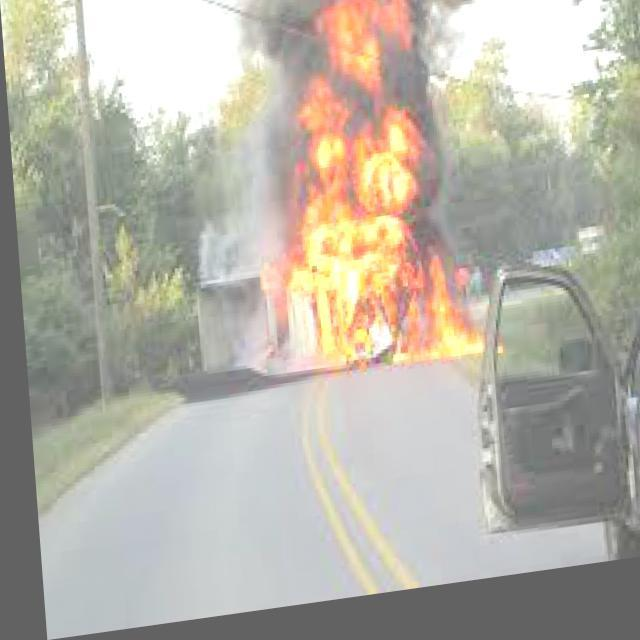Fire: (259, 0, 482, 394)
